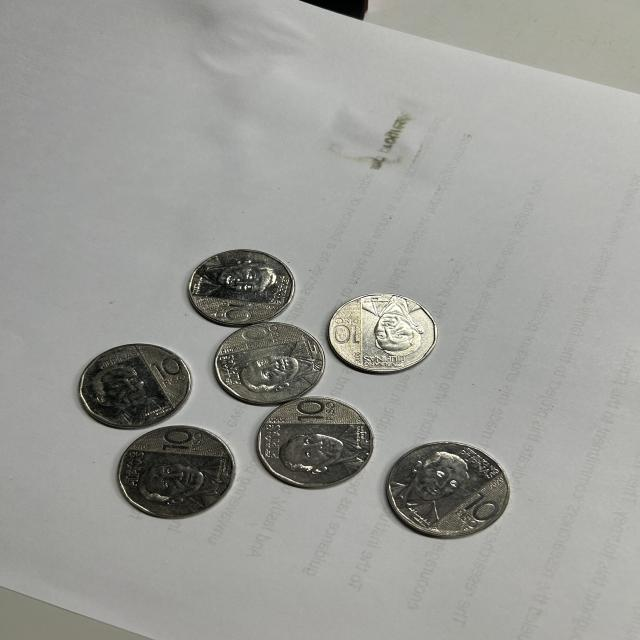10_New_Front: (446, 481, 497, 532), (332, 316, 377, 351), (148, 355, 193, 389), (152, 430, 207, 456), (293, 397, 335, 426), (218, 302, 256, 328), (243, 327, 284, 351)
